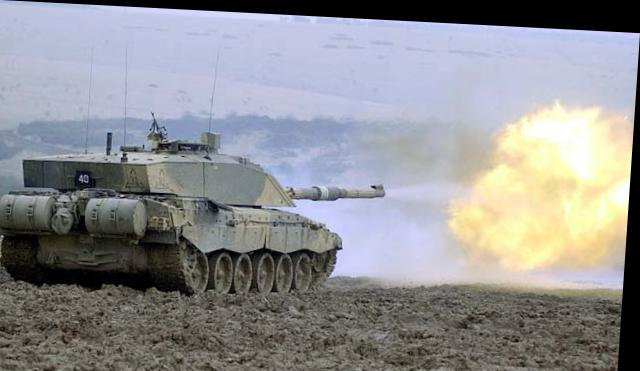tank: (0, 125, 348, 292)
